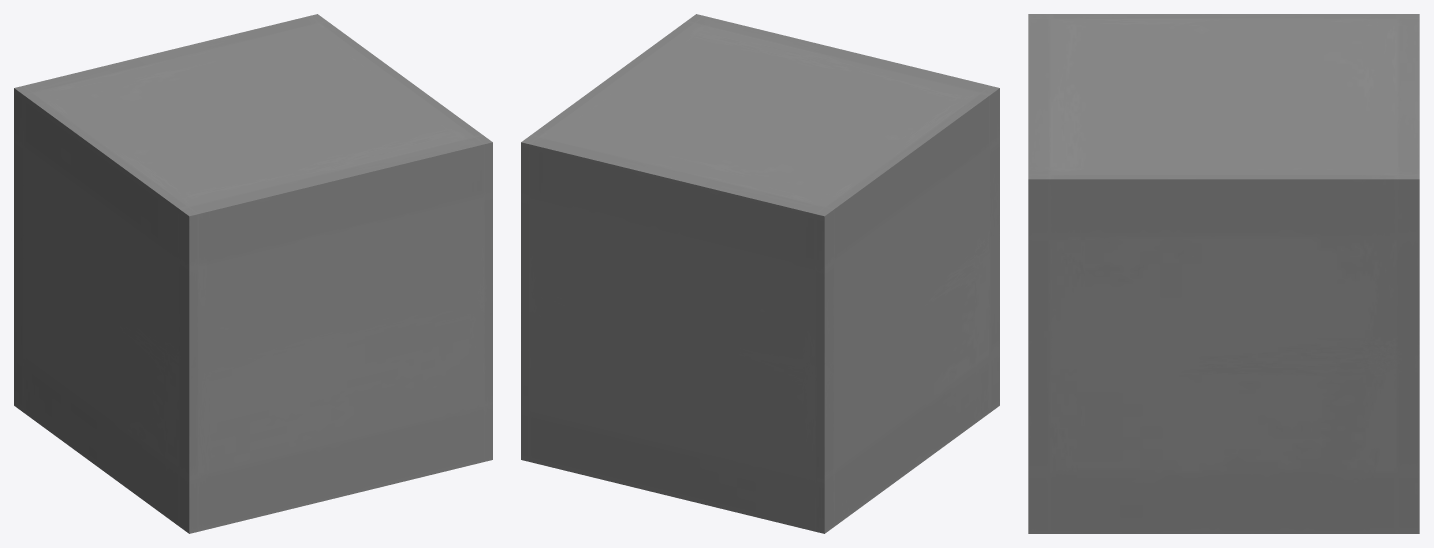
The model's file is ScalableMesh_Ground__19.fbx.
3 views of the same model, side by side, from view 1: azimuth 30°, elevation 25°; view 2: azimuth 150°, elevation 25°; view 3: azimuth 270°, elevation 25° (orthographic). The views are drawn at different scales.
Visible parts, largest first — view 1: MAT_ScalableMesh_02 1; view 2: MAT_ScalableMesh_02 1; view 3: MAT_ScalableMesh_02 1.
Boxes of the visible parts, x1,y1,x2,y2 form: MAT_ScalableMesh_02 1: (14,14,492,533); MAT_ScalableMesh_02 1: (521,14,999,533); MAT_ScalableMesh_02 1: (1028,14,1419,533).
Bounding box in the file's own units: 1 × 1 × 1.
Materials: 1 (1 with a texture image).
